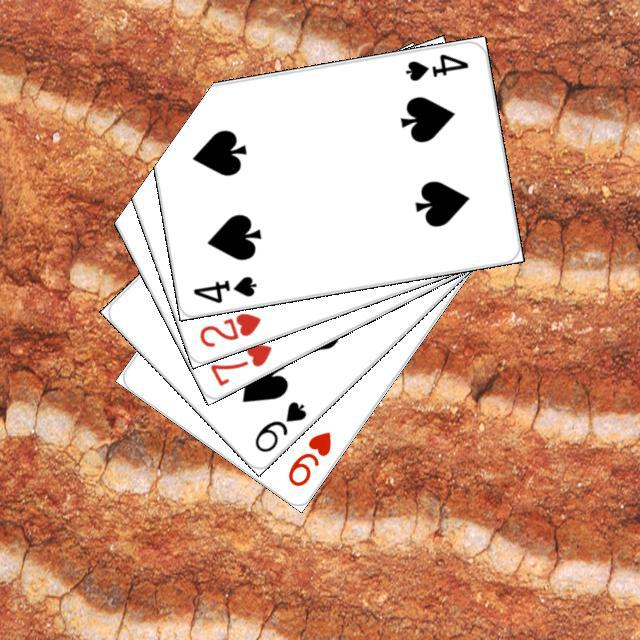2h: (194, 308, 263, 349)
4s: (400, 48, 471, 83), (188, 271, 259, 305)
7h: (205, 338, 274, 388)
9h: (282, 426, 334, 489)
9s: (249, 396, 308, 455)
